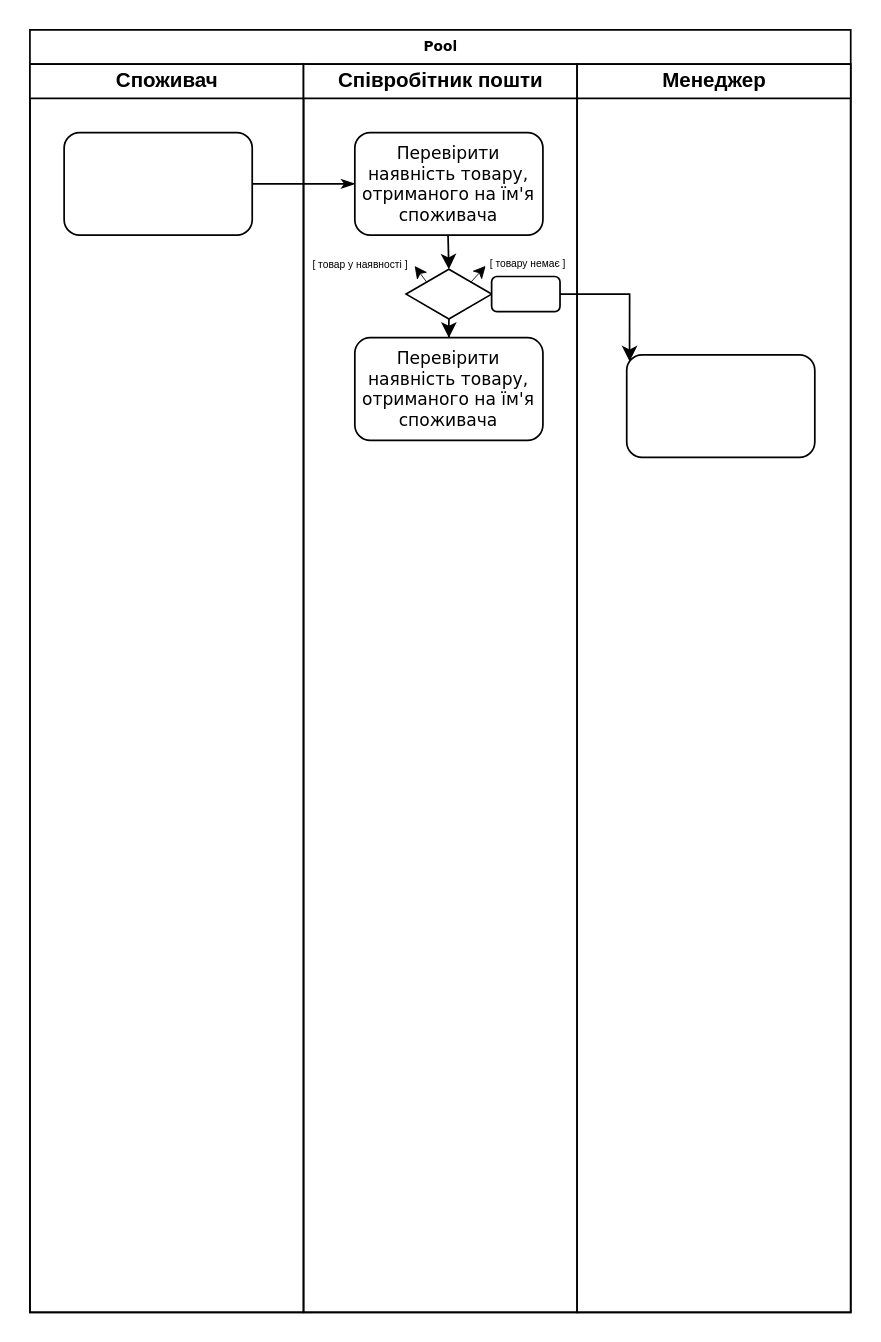
Image size: 881x1342. Some labels were removed from this diagram. Each missing label, with the centre of its shape:
"Звернутися до менеджера" goes at (x=525, y=293).
"Обрати отримання товару, вказати інформацію про себе" goes at (x=157, y=183).
"Перевірити інформацію щодо товару" goes at (x=720, y=405).
